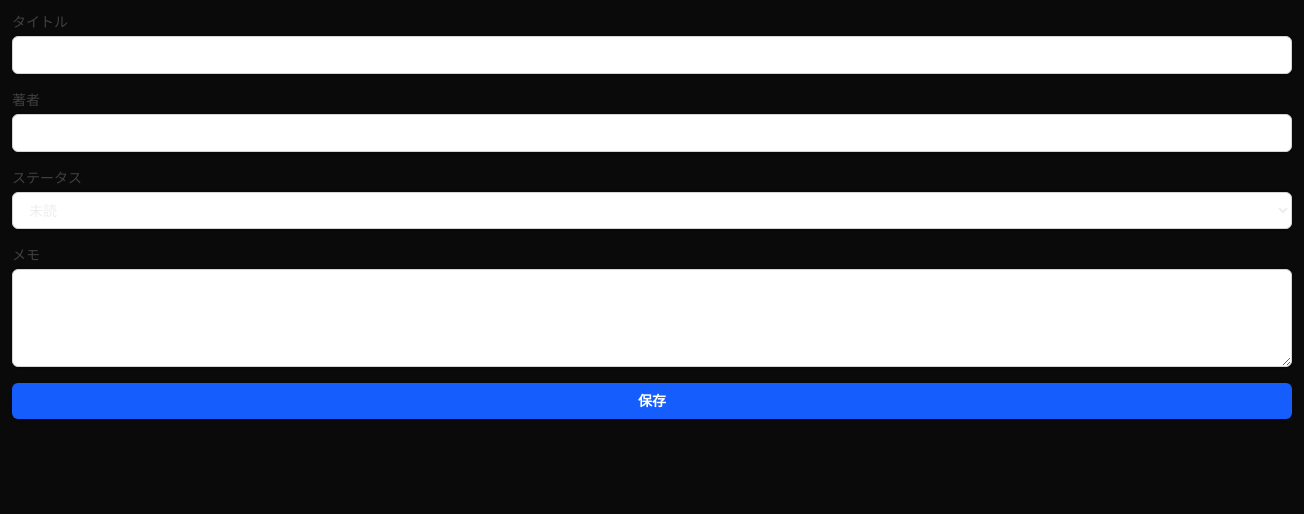
Scenario: <BookForm /> › shows finished_at field only when status is finished
Expected: the field labelled "読了日時" is not shown
Select "読了" in the dropdown labelled "ステータス" at coordinates (652, 210), box [12,192,1292,229]
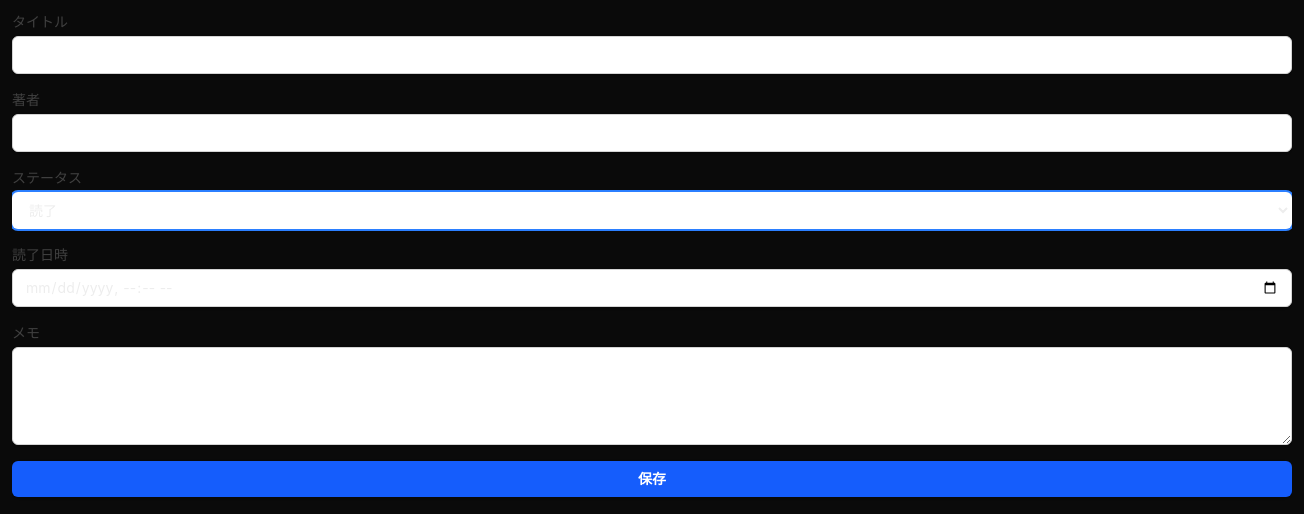
Expected: the field labelled "読了日時" is shown, [12,269,1292,307]
